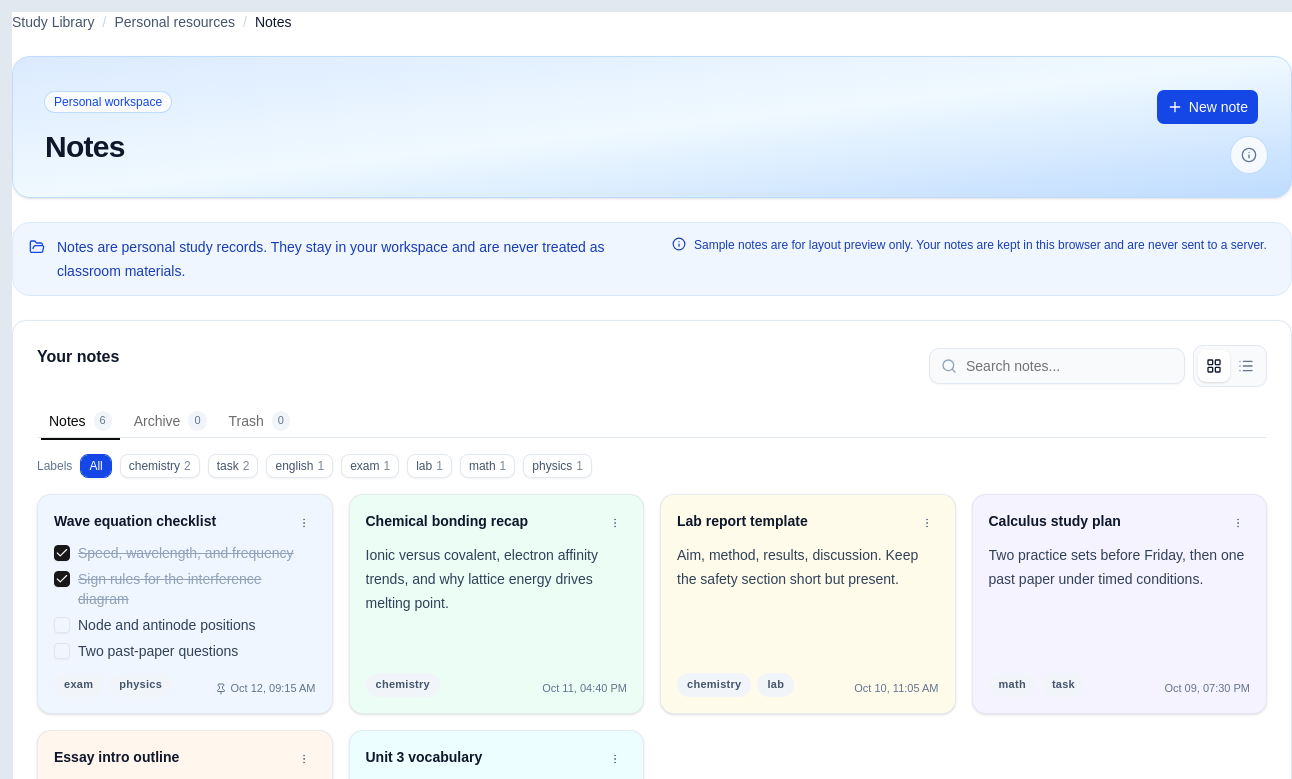
it: NotesView › keeps a pinned note pinned in the menu
Click the button named "Options for Wave equation checklist".
click(304, 523)  # box [292,511,316,535]
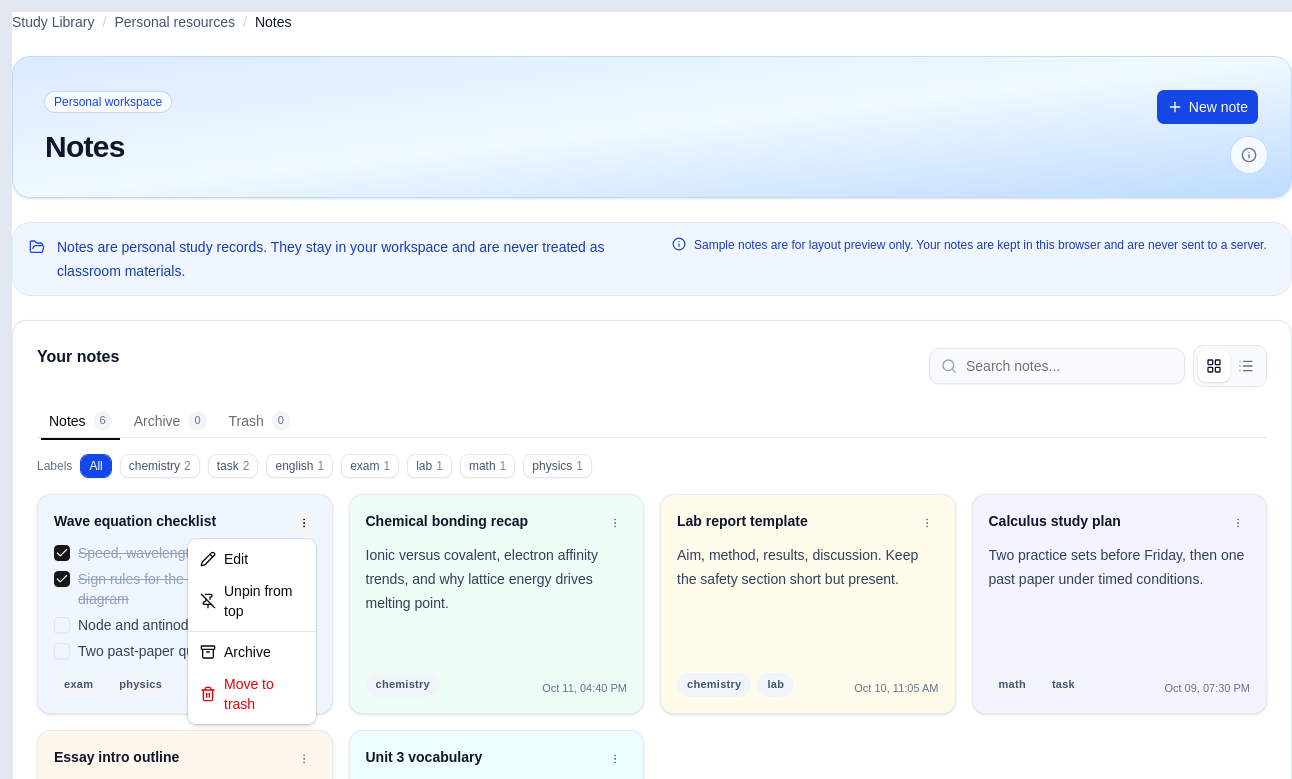
Result: the menu item "Unpin from top" is shown at [200,583,292,619]
